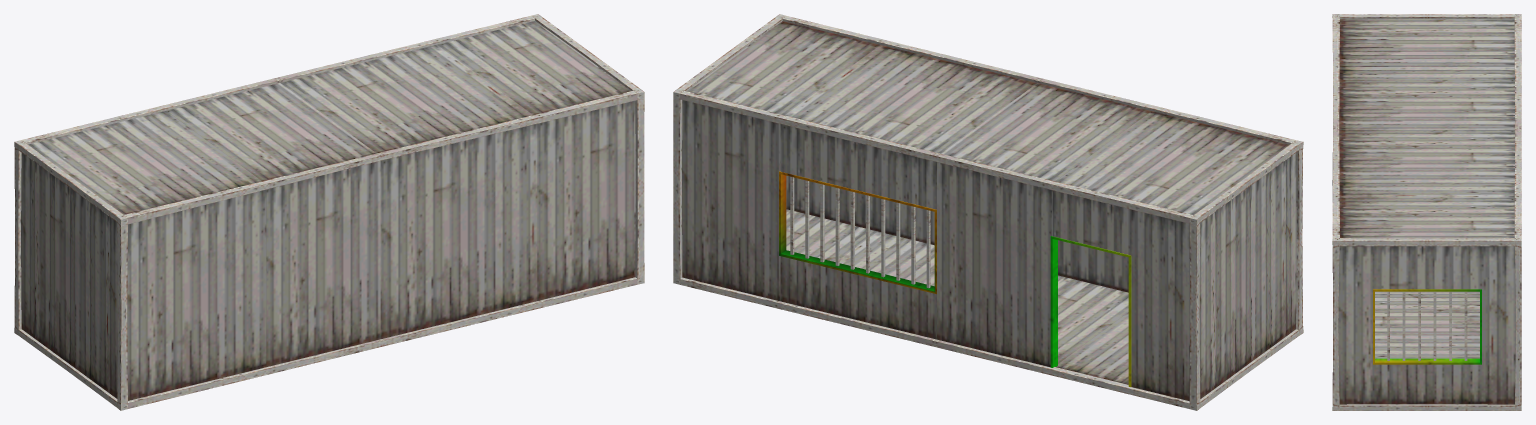
File: containerbuilding_white001_containers_mobile_0_lev1.glb
The picture shows the model from 3 angles, left to right: view 1: azimuth 30°, elevation 25°; view 2: azimuth 150°, elevation 25°; view 3: azimuth 270°, elevation 25°; orthographic projection. The views are drawn at different scales.
Visible parts, largest first — view 1: containerbuilding_white001_containers_mobile_0_lev1; view 2: containerbuilding_white001_containers_mobile_0_lev1; view 3: containerbuilding_white001_containers_mobile_0_lev1.
Part boxes in pixels (left/top/right/bottom): containerbuilding_white001_containers_mobile_0_lev1: left=14, top=14, right=644, bottom=410; containerbuilding_white001_containers_mobile_0_lev1: left=673, top=14, right=1303, bottom=410; containerbuilding_white001_containers_mobile_0_lev1: left=1332, top=14, right=1521, bottom=410.
Bounding box in the file's own units: 5.37 × 1.87 × 1.89.
Materials: 1 (1 with a texture image).
